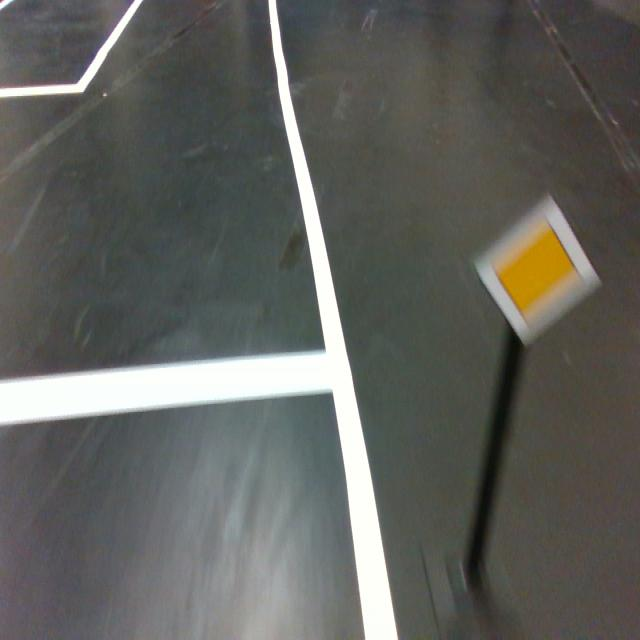priority-sign: (470, 188, 605, 352)
